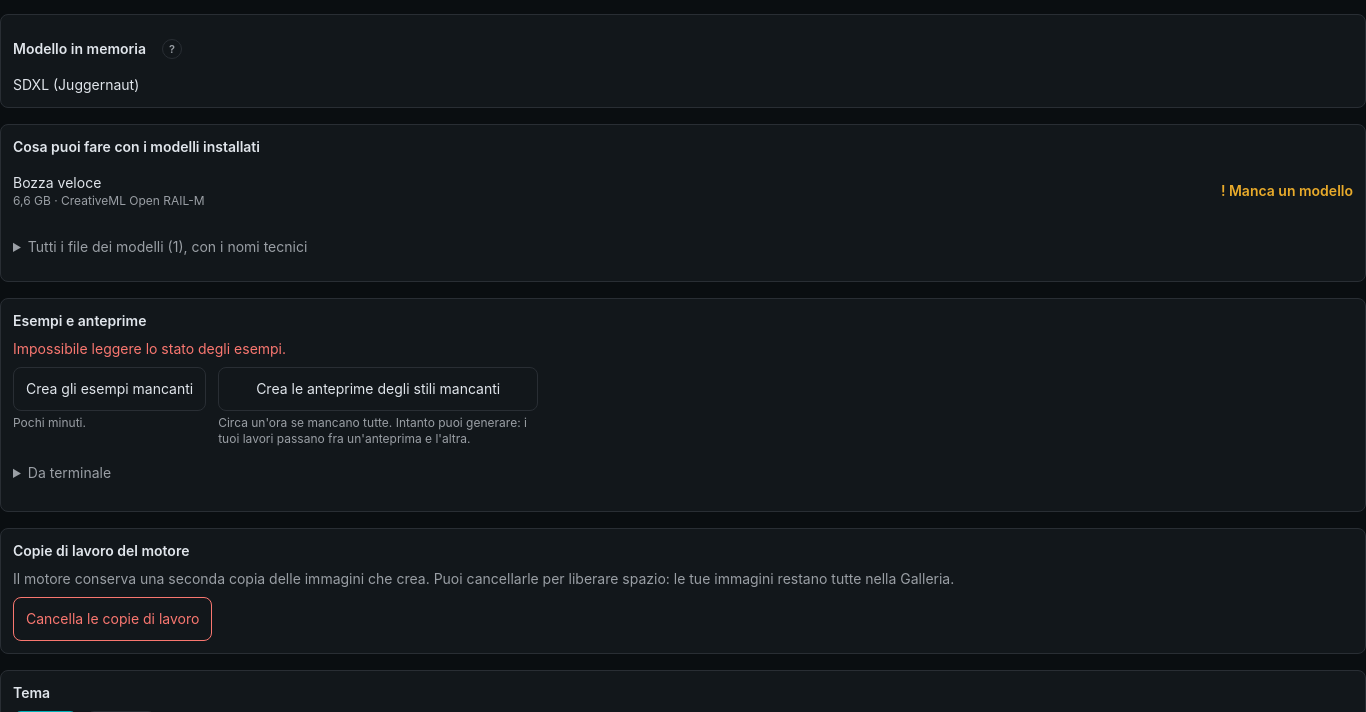
it: SettingsPage › asks for confirmation before clearing the engine output folder, then shows the result
(page scrolled)
Click the button "Cancella le copie di lavoro". click: (113, 619)
box: 13,597 -> 212,641
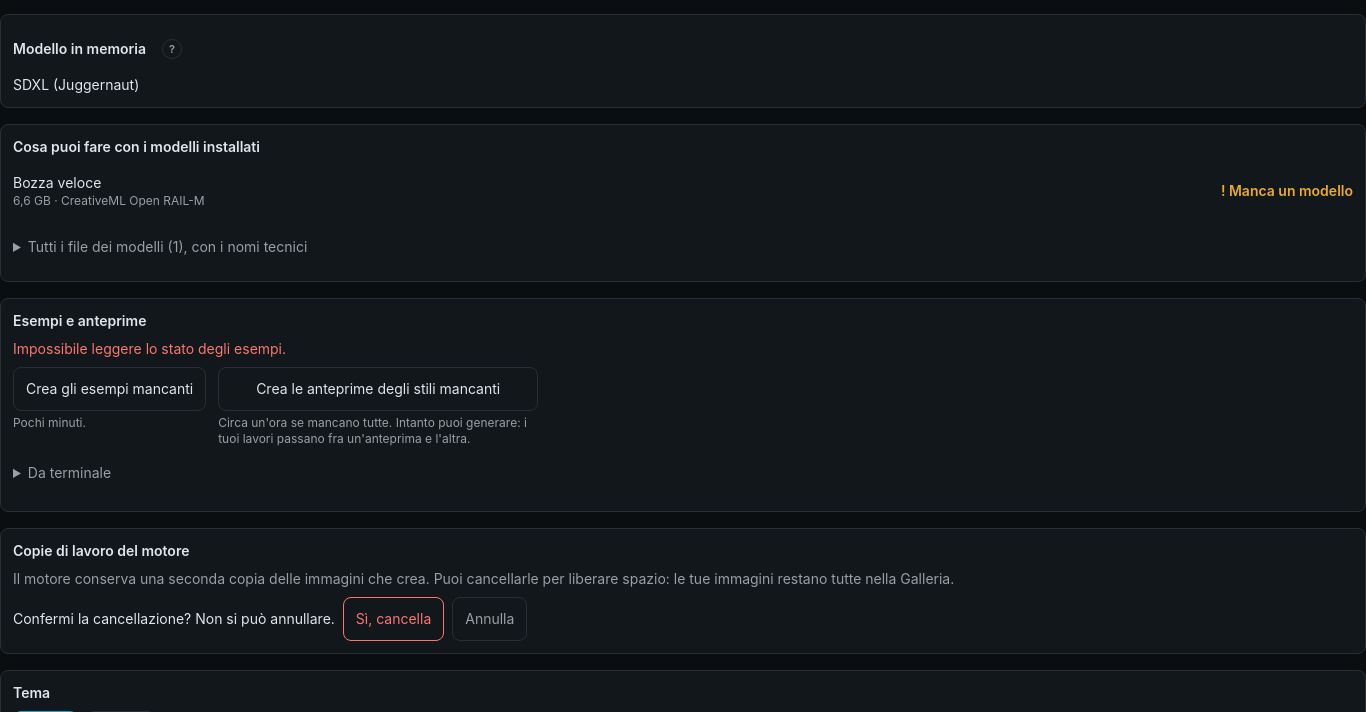
Expected: the text "Confermi la cancellazione? Non si può annullare." is shown, 13,609 -> 335,629
Click the button "Sì, cancella". click: (394, 619)
box: 343,597 -> 444,641
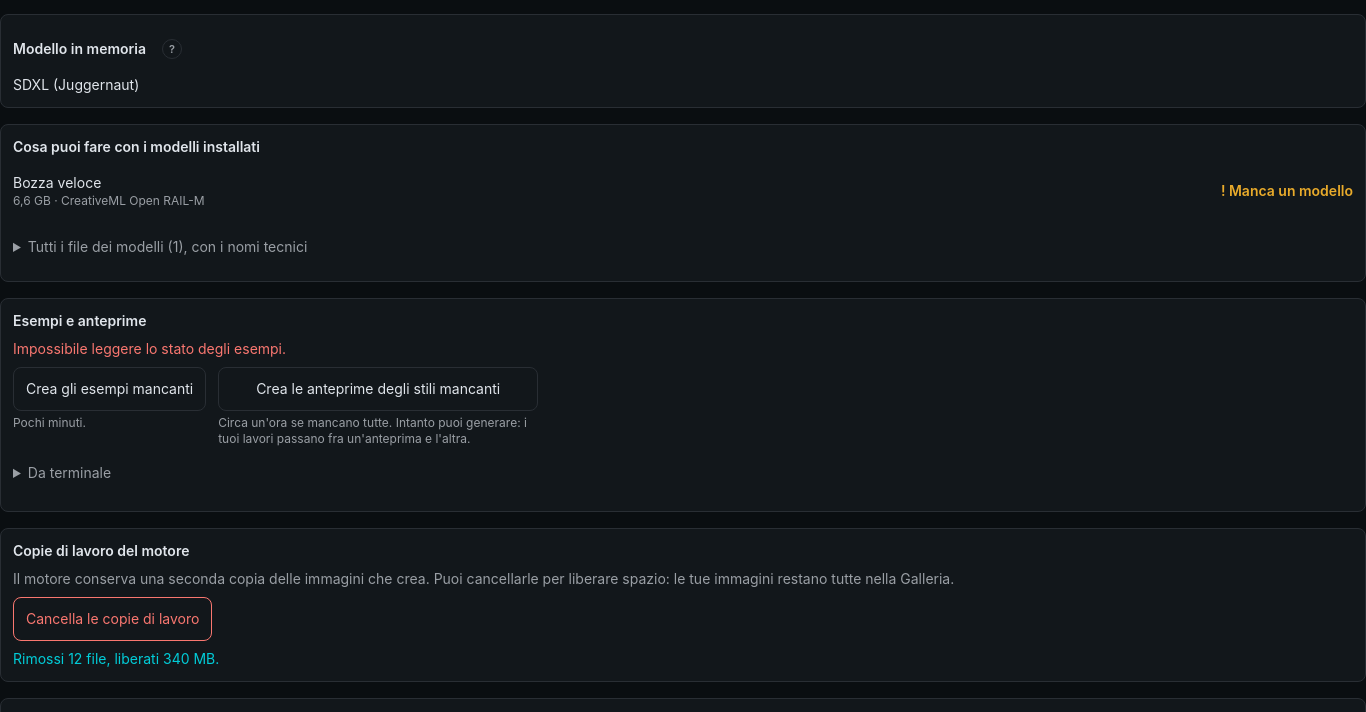
Expected: the text "Rimossi 12 file, liberati 340 MB." is shown, 13,650 -> 219,667
